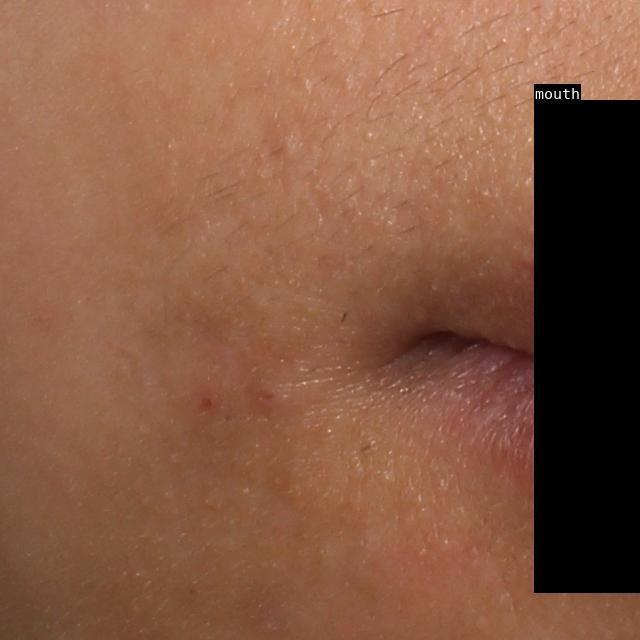comedo: (278, 133, 300, 157)
